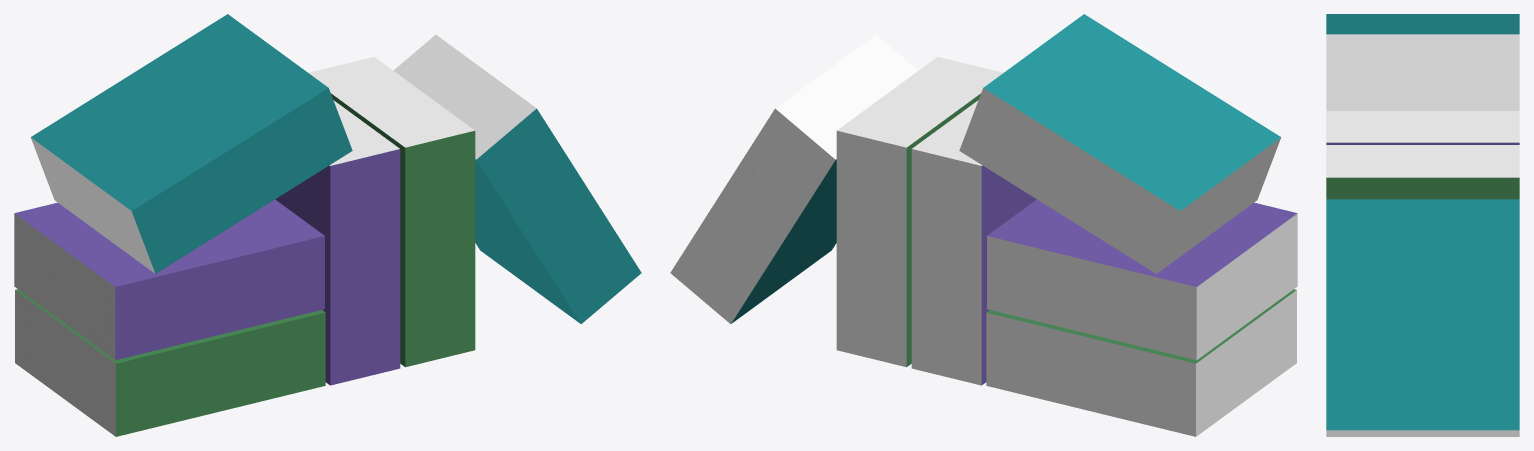
Rendered from books.fbx.
3 views of the same model, side by side, from view 1: azimuth 30°, elevation 25°; view 2: azimuth 150°, elevation 25°; view 3: azimuth 270°, elevation 25° (orthographic). The views are drawn at different scales.
Parts seen in each view (by area): view 1: polySurface4; view 2: polySurface4; view 3: polySurface4.
Boxes of the visible parts, x1,y1,x2,y2 form: polySurface4: [14, 14, 641, 436]; polySurface4: [670, 14, 1297, 436]; polySurface4: [1326, 14, 1519, 436].
Bounding box in the file's own units: 18.82 × 10.18 × 6.25.
1 material, 1 textured.
